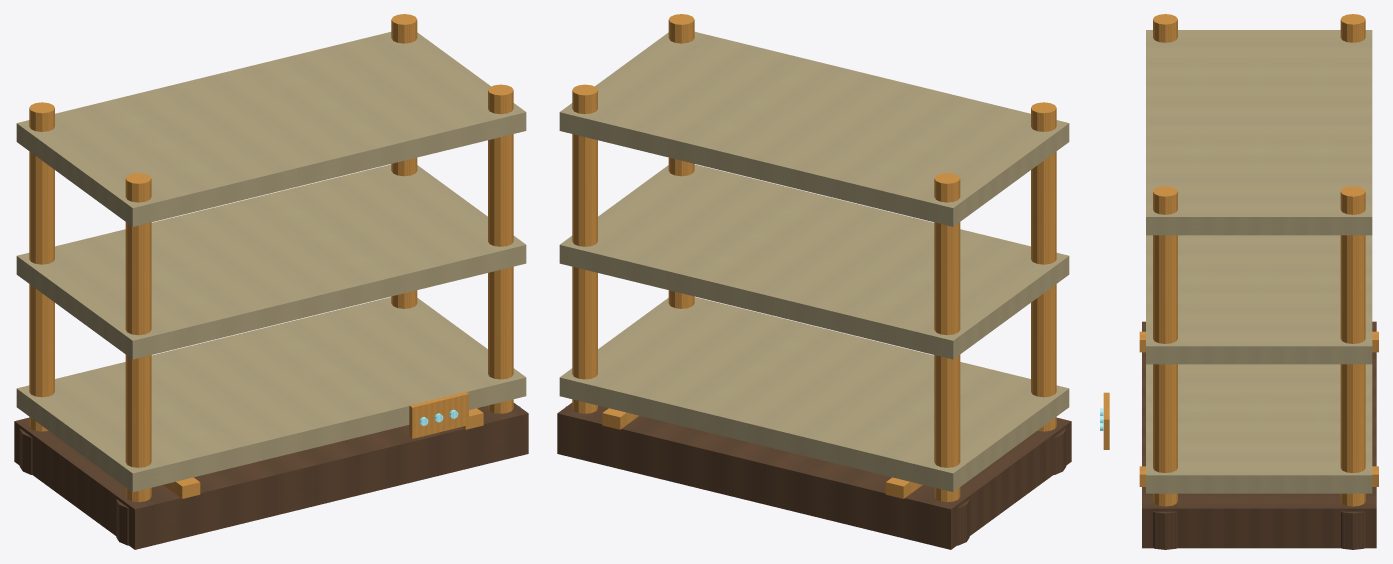
Rendered from atlas100-s017-a06.glb.
The picture shows the model from 3 angles, left to right: view 1: azimuth 30°, elevation 25°; view 2: azimuth 150°, elevation 25°; view 3: azimuth 270°, elevation 25°; orthographic projection. The views are drawn at different scales.
Parts seen in each view (by area): view 1: atlas100-s017-a06:part-013, atlas100-s017-a06:part-012, atlas100-s017-a06:part-011, atlas100-s017-a06:part-000, atlas100-s017-a06:part-005, atlas100-s017-a06:part-009, atlas100-s017-a06:part-003, atlas100-s017-a06:part-014, atlas100-s017-a06:part-007; view 2: atlas100-s017-a06:part-013, atlas100-s017-a06:part-012, atlas100-s017-a06:part-011, atlas100-s017-a06:part-000, atlas100-s017-a06:part-003, atlas100-s017-a06:part-007, atlas100-s017-a06:part-005, atlas100-s017-a06:part-009; view 3: atlas100-s017-a06:part-013, atlas100-s017-a06:part-012, atlas100-s017-a06:part-011, atlas100-s017-a06:part-000, atlas100-s017-a06:part-007, atlas100-s017-a06:part-009, atlas100-s017-a06:part-008, atlas100-s017-a06:part-010, atlas100-s017-a06:part-003, atlas100-s017-a06:part-005, atlas100-s017-a06:part-014.
Boxes of the visible parts, bbox=[...] form: atlas100-s017-a06:part-013: bbox=[16, 32, 526, 226]; atlas100-s017-a06:part-012: bbox=[16, 164, 526, 359]; atlas100-s017-a06:part-011: bbox=[16, 297, 526, 491]; atlas100-s017-a06:part-000: bbox=[14, 403, 528, 549]; atlas100-s017-a06:part-005: bbox=[125, 173, 151, 502]; atlas100-s017-a06:part-009: bbox=[488, 84, 513, 413]; atlas100-s017-a06:part-003: bbox=[29, 102, 54, 431]; atlas100-s017-a06:part-014: bbox=[409, 392, 468, 438]; atlas100-s017-a06:part-007: bbox=[391, 14, 417, 308]; atlas100-s017-a06:part-013: bbox=[559, 32, 1069, 226]; atlas100-s017-a06:part-012: bbox=[559, 164, 1069, 359]; atlas100-s017-a06:part-011: bbox=[559, 297, 1069, 491]; atlas100-s017-a06:part-000: bbox=[557, 403, 1071, 549]; atlas100-s017-a06:part-003: bbox=[934, 173, 960, 502]; atlas100-s017-a06:part-007: bbox=[572, 84, 597, 413]; atlas100-s017-a06:part-005: bbox=[1031, 102, 1056, 431]; atlas100-s017-a06:part-009: bbox=[668, 14, 694, 308]; atlas100-s017-a06:part-013: bbox=[1146, 30, 1372, 235]; atlas100-s017-a06:part-012: bbox=[1146, 235, 1372, 364]; atlas100-s017-a06:part-011: bbox=[1146, 364, 1372, 493]; atlas100-s017-a06:part-000: bbox=[1142, 321, 1376, 548]; atlas100-s017-a06:part-007: bbox=[1340, 186, 1365, 506]; atlas100-s017-a06:part-009: bbox=[1153, 186, 1177, 506]; atlas100-s017-a06:part-008: bbox=[1341, 511, 1365, 549]; atlas100-s017-a06:part-010: bbox=[1153, 511, 1177, 549]; atlas100-s017-a06:part-003: bbox=[1340, 14, 1365, 42]; atlas100-s017-a06:part-005: bbox=[1153, 14, 1177, 42]; atlas100-s017-a06:part-014: bbox=[1103, 392, 1109, 449].
Bounding box in the file's own units: 2.69 × 2.3 × 1.66.
4 materials, 4 textured.
